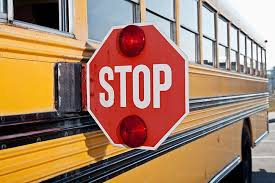stop sign: (87, 23, 190, 151)
